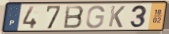3: (129, 4, 149, 29)
4: (22, 5, 39, 30)
7: (45, 5, 62, 30)
B: (62, 5, 86, 30)
G: (84, 5, 106, 30)
K: (107, 5, 127, 29)
